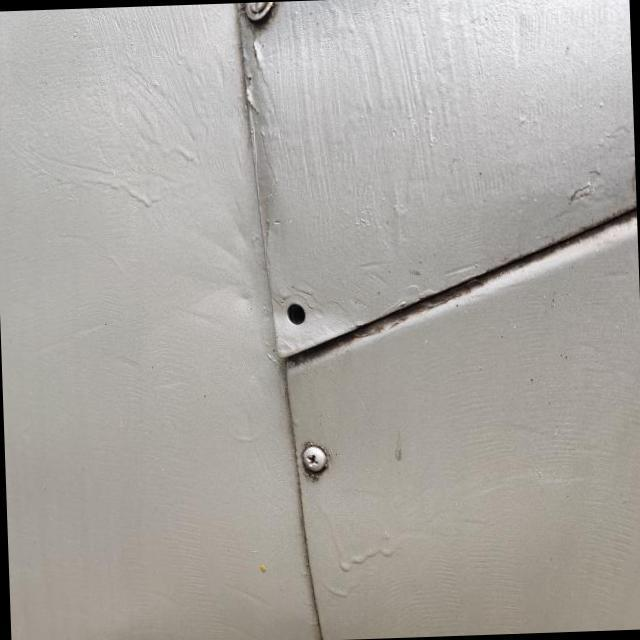Fastener Damage: (263, 280, 321, 344)
